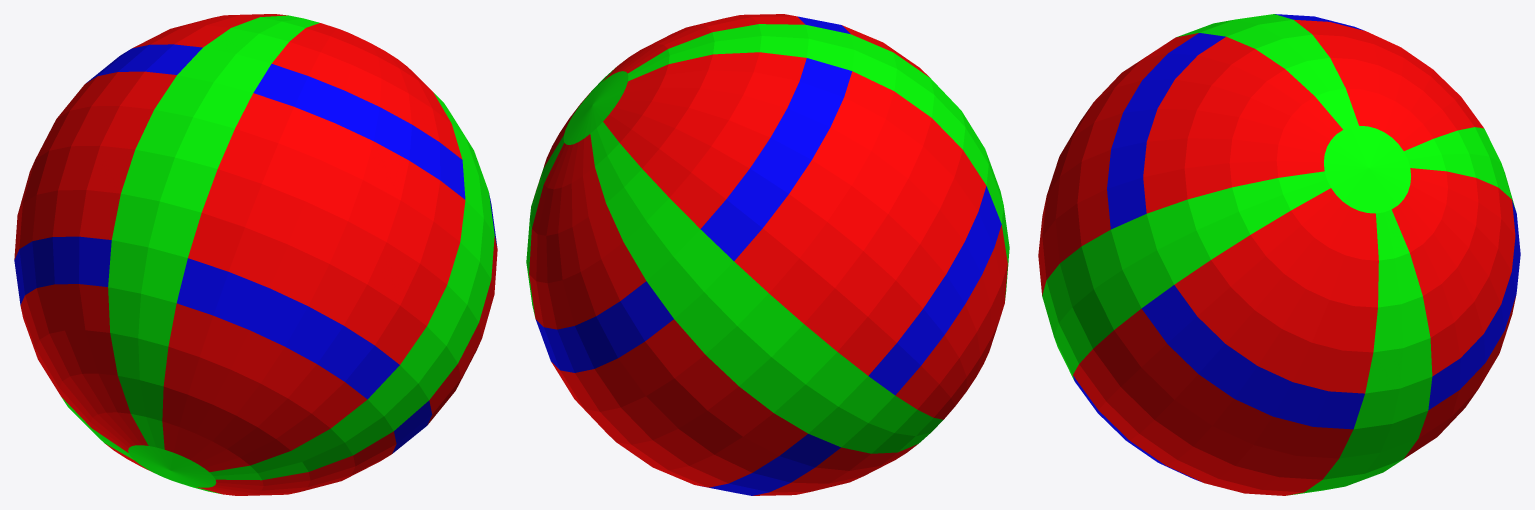
File: Ball.fbx
The picture shows the model from 3 angles, left to right: view 1: azimuth 30°, elevation 25°; view 2: azimuth 150°, elevation 25°; view 3: azimuth 270°, elevation 25°; orthographic projection.
Visible parts, largest first — view 1: Ball; view 2: Ball; view 3: Ball.
Boxes of the visible parts, x1,y1,x2,y2 form: Ball: [14, 14, 497, 495]; Ball: [526, 14, 1009, 495]; Ball: [1038, 14, 1520, 495].
Bounding box in the file's own units: 81.36 × 81.75 × 81.77.
